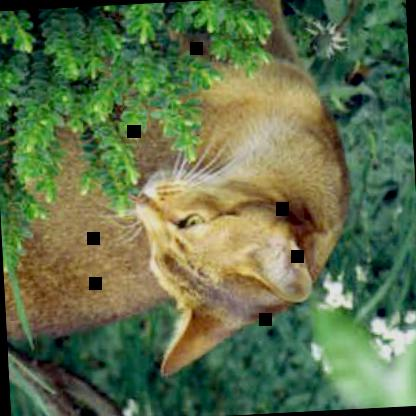cat: (0, 0, 359, 387)
